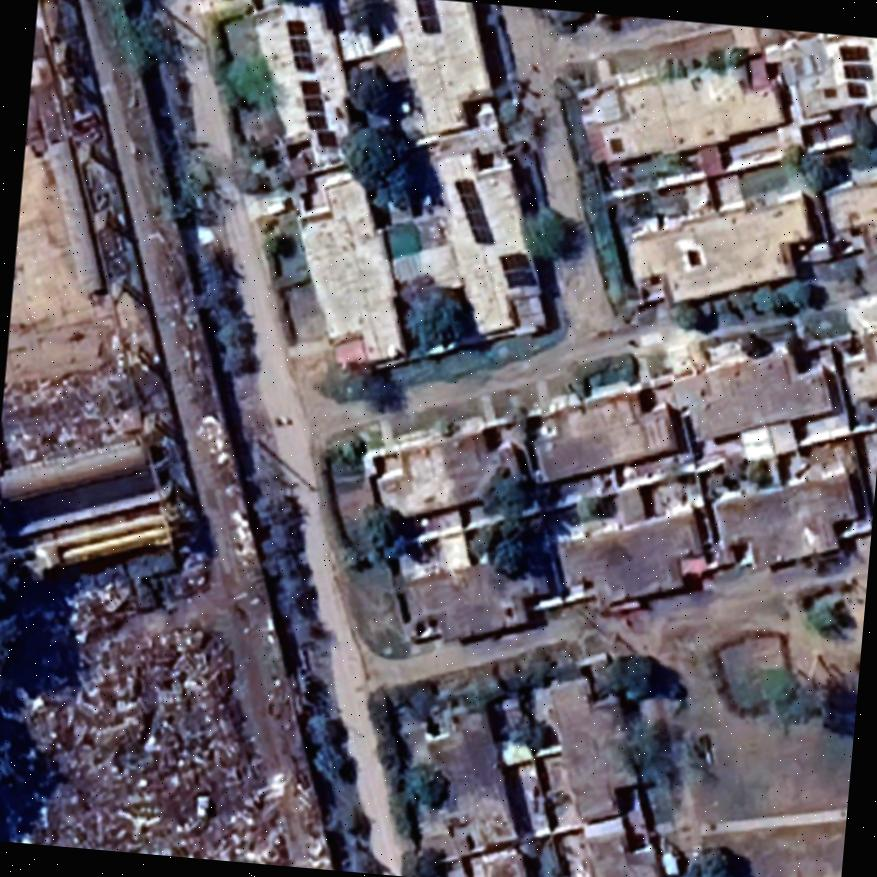Solarpanel: (284, 17, 334, 139), (453, 177, 499, 250), (828, 37, 877, 103), (490, 244, 546, 296), (405, 0, 448, 38)
